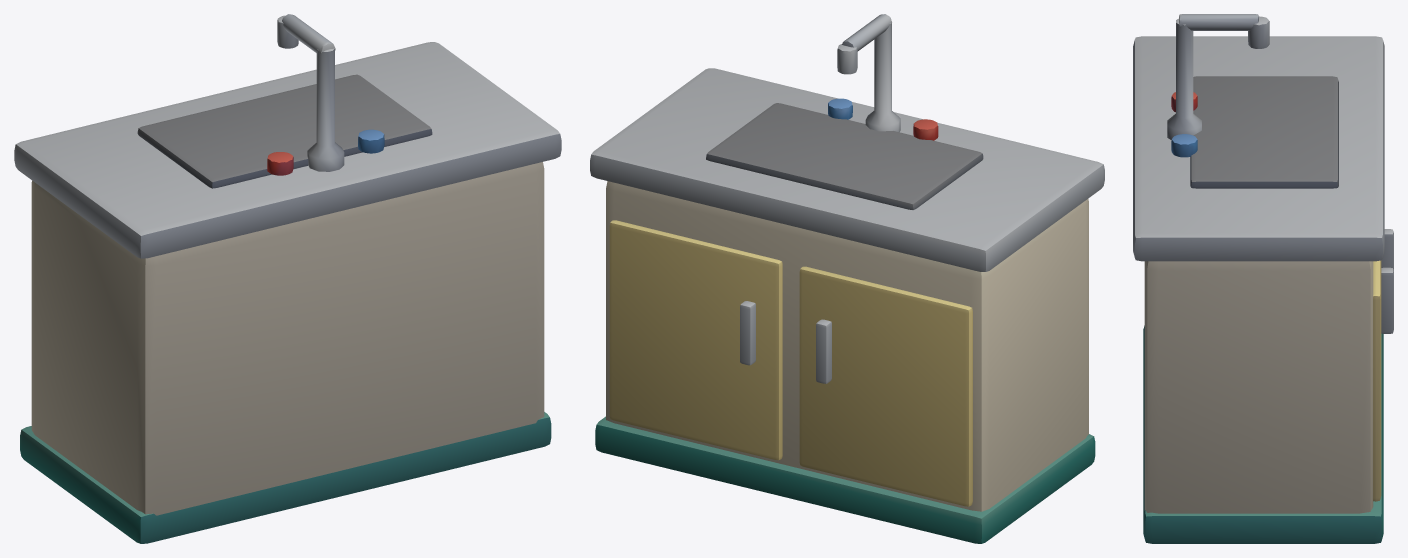
Rendered from Sink.fbx.
3 views of the same model, side by side, from view 1: azimuth 30°, elevation 25°; view 2: azimuth 150°, elevation 25°; view 3: azimuth 270°, elevation 25° (orthographic). The views are drawn at different scales.
Parts seen in each view (by area): view 1: SM_Kitchen_Sink; view 2: SM_Kitchen_Sink; view 3: SM_Kitchen_Sink.
Boxes of the visible parts, <box> form: SM_Kitchen_Sink: <box>14,14,561,543</box>; SM_Kitchen_Sink: <box>590,14,1104,543</box>; SM_Kitchen_Sink: <box>1133,14,1393,543</box>.
Bounding box in the file's own units: 4.2 × 4.18 × 2.28.
